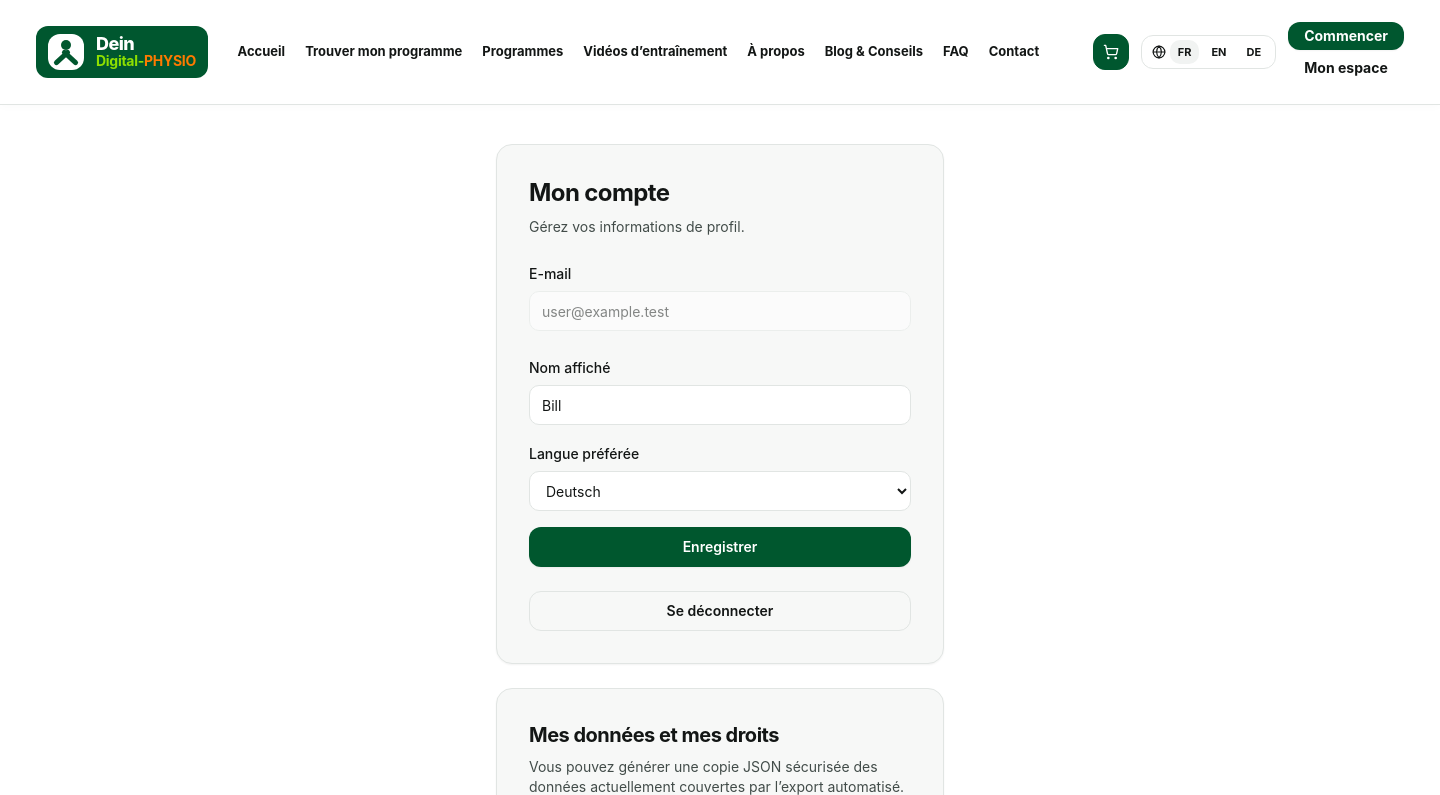
it: /account › stays on /account when the profile update fails
The image size is (1440, 795).
Expected: the field showing "Bill" is shown, x1=529 y1=385 x2=911 y2=425
Step 1. Click the button "Enregistrer" → (720, 547), box x1=529 y1=527 x2=911 y2=567
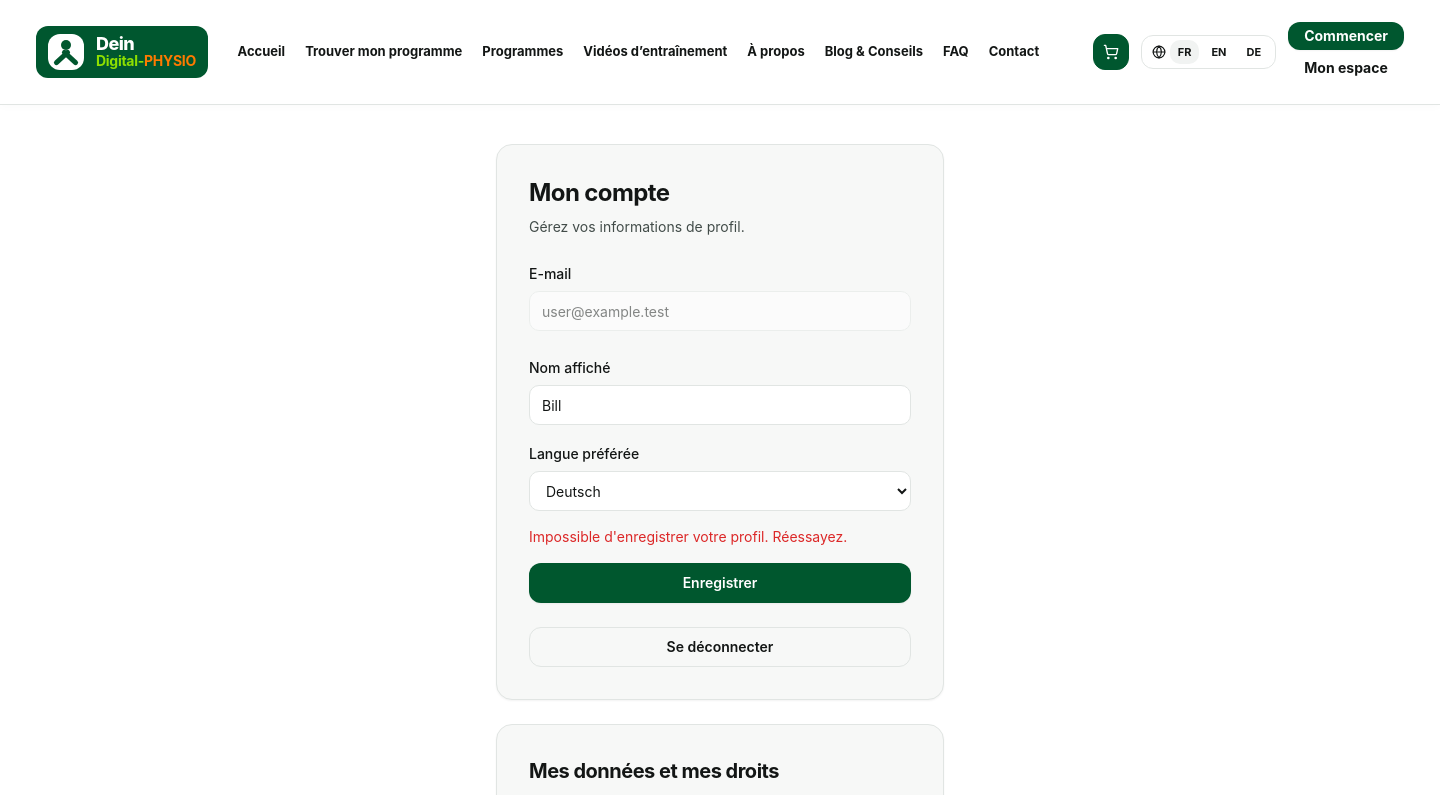
Result: the message "Impossible d'enregistrer votre profil. Réessayez." is shown at x1=529 y1=528 x2=847 y2=545
